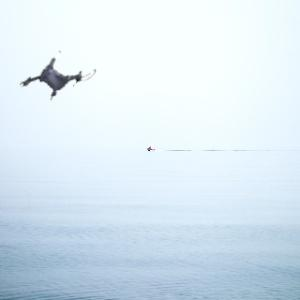drone: (27, 41, 96, 110)
